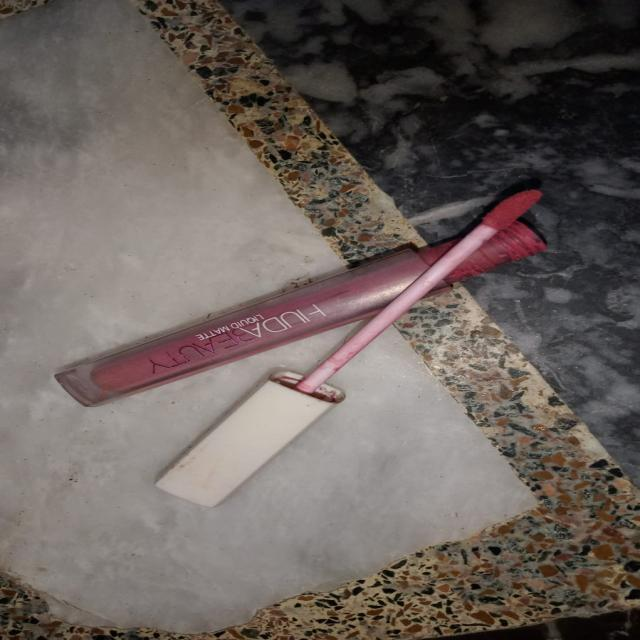lip gloss: (24, 147, 606, 503), (407, 151, 589, 259)
